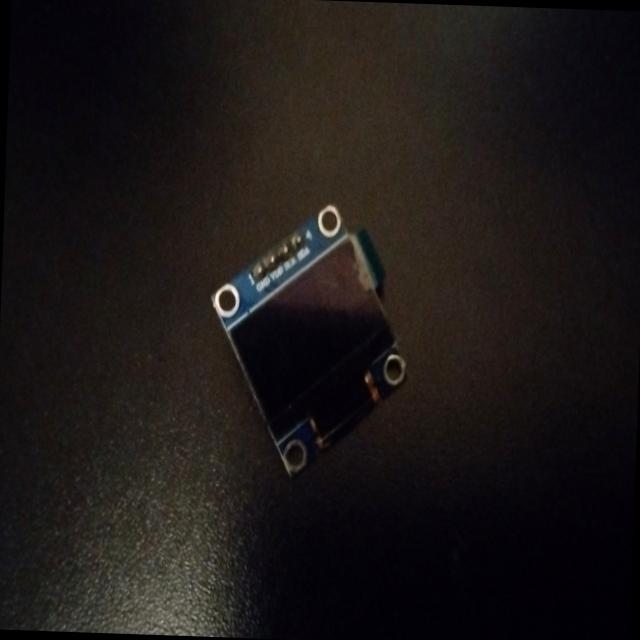oled: (196, 190, 428, 487)
